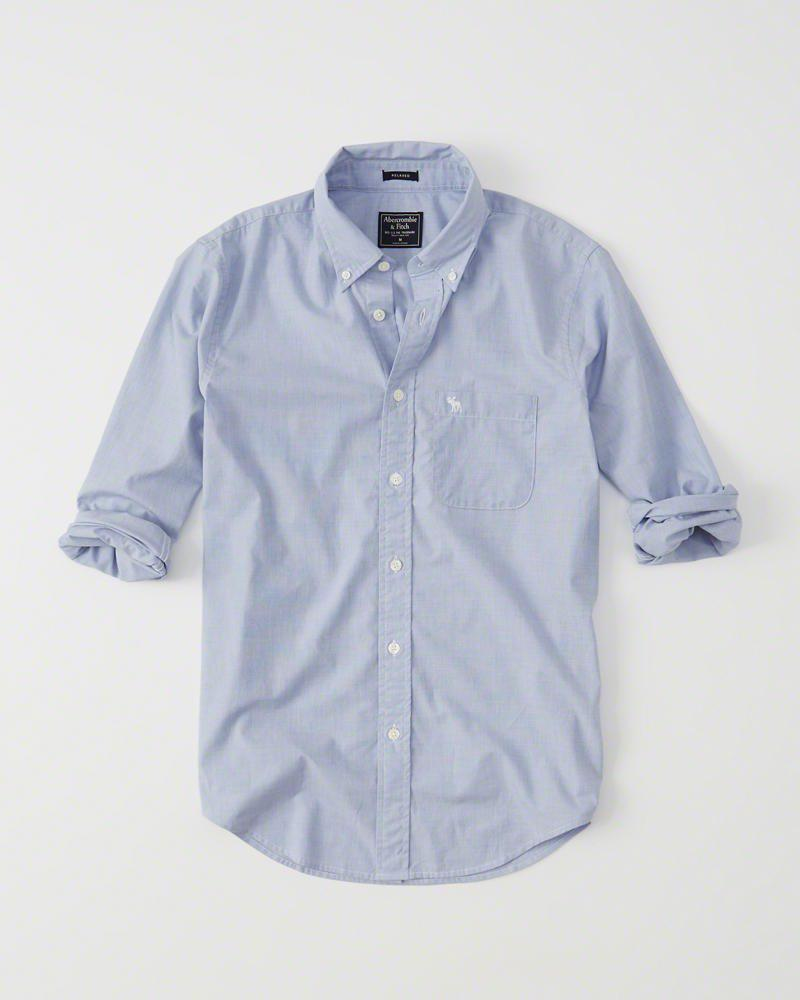teeshirt: (70, 134, 756, 875)
